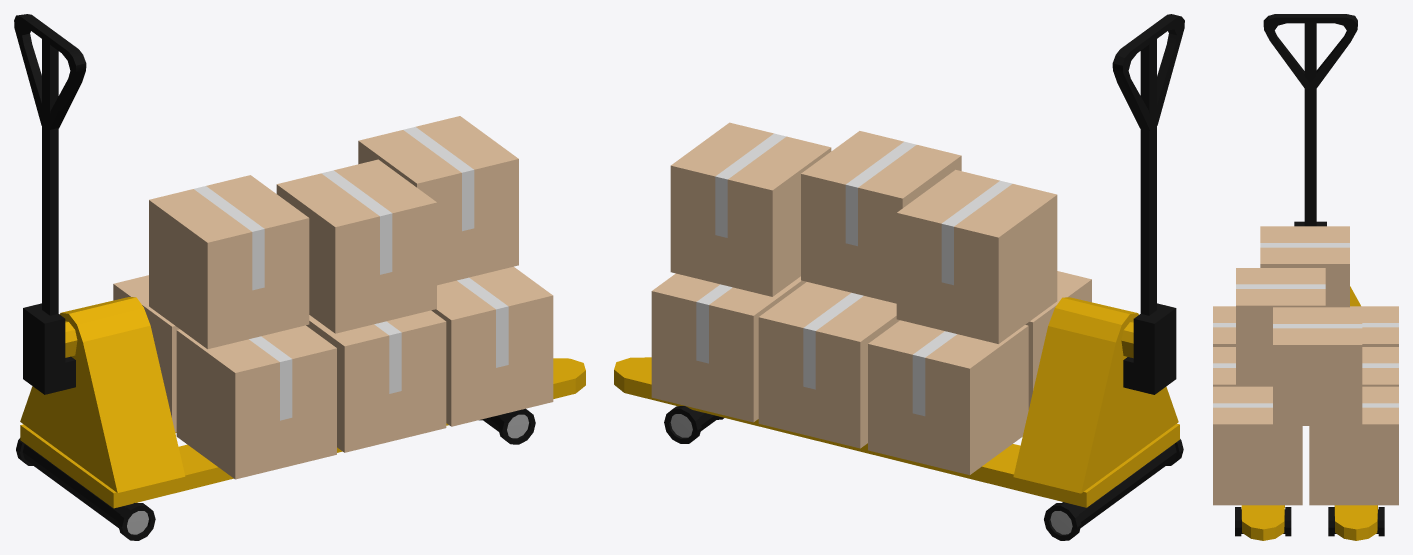
Rendered from Transpalette.fbx.
The picture shows the model from 3 angles, left to right: view 1: azimuth 30°, elevation 25°; view 2: azimuth 150°, elevation 25°; view 3: azimuth 270°, elevation 25°; orthographic projection. The views are drawn at different scales.
Visible parts, largest first — view 1: transpalette, carton_8, carton_7, carton_1, carton_6, carton_3, carton_5, carton_9; view 2: transpalette, carton_8, carton_9, carton_6, carton_1, carton_4, carton_2, carton_7; view 3: carton_6, carton_3, transpalette, carton_2, carton_1, carton_8, carton_9, carton_4, carton_7, carton_5.
Boxes of the visible parts, x1=… form: transpalette: x1=14, y1=14, x2=585, y2=540; carton_8: x1=149, y1=175, x2=309, y2=349; carton_7: x1=176, y1=325, x2=336, y2=479; carton_1: x1=276, y1=159, x2=436, y2=333; carton_6: x1=358, y1=116, x2=518, y2=285; carton_3: x1=431, y1=266, x2=553, y2=426; carton_5: x1=306, y1=310, x2=446, y2=452; carton_9: x1=113, y1=275, x2=179, y2=432; transpalette: x1=614, y1=14, x2=1184, y2=540; carton_8: x1=896, y1=169, x2=1057, y2=343; carton_9: x1=868, y1=320, x2=1028, y2=475; carton_6: x1=670, y1=122, x2=831, y2=296; carton_1: x1=801, y1=131, x2=961, y2=303; carton_4: x1=758, y1=282, x2=899, y2=448; carton_2: x1=651, y1=273, x2=806, y2=422; carton_7: x1=1025, y1=271, x2=1091, y2=409; carton_6: x1=1273, y1=307, x2=1362, y2=425; carton_3: x1=1213, y1=386, x2=1302, y2=505; transpalette: x1=1235, y1=14, x2=1384, y2=540; carton_2: x1=1309, y1=386, x2=1398, y2=505; carton_1: x1=1236, y1=268, x2=1325, y2=386; carton_8: x1=1260, y1=226, x2=1349, y2=307; carton_9: x1=1350, y1=306, x2=1398, y2=346; carton_4: x1=1362, y1=347, x2=1398, y2=386; carton_7: x1=1213, y1=306, x2=1235, y2=346; carton_5: x1=1213, y1=347, x2=1235, y2=386.
Size of the model in its own units: 2.89 by 2.54 by 1.18.
